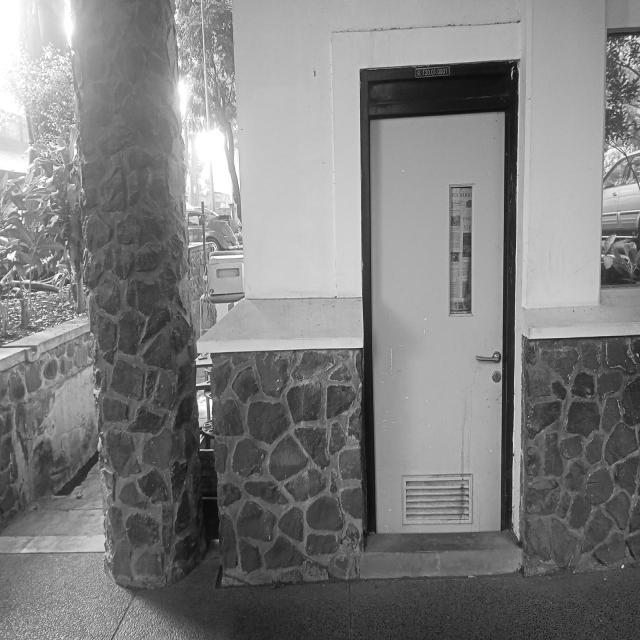door: (366, 111, 509, 538)
